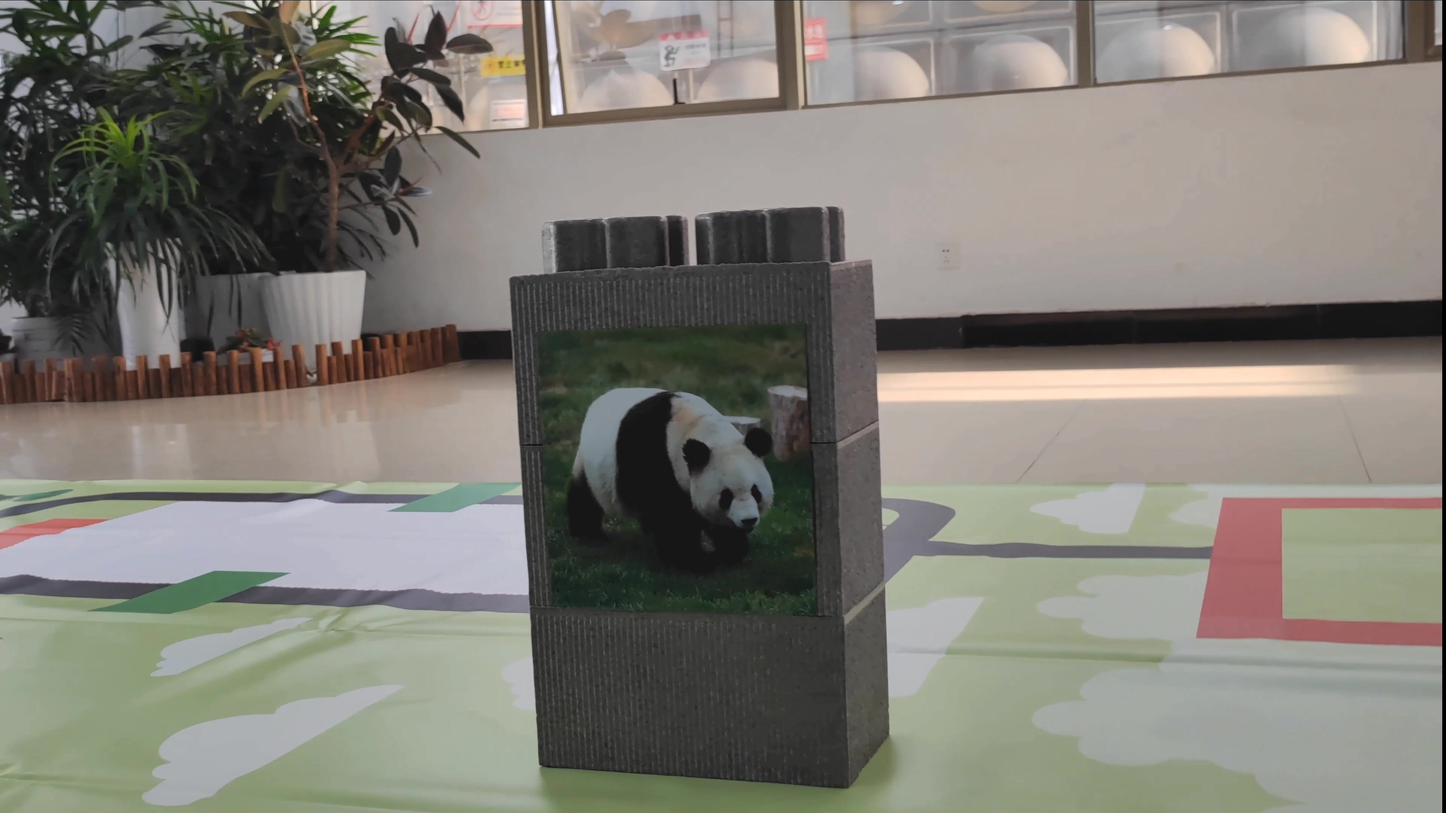panda: (552, 344, 789, 553)
